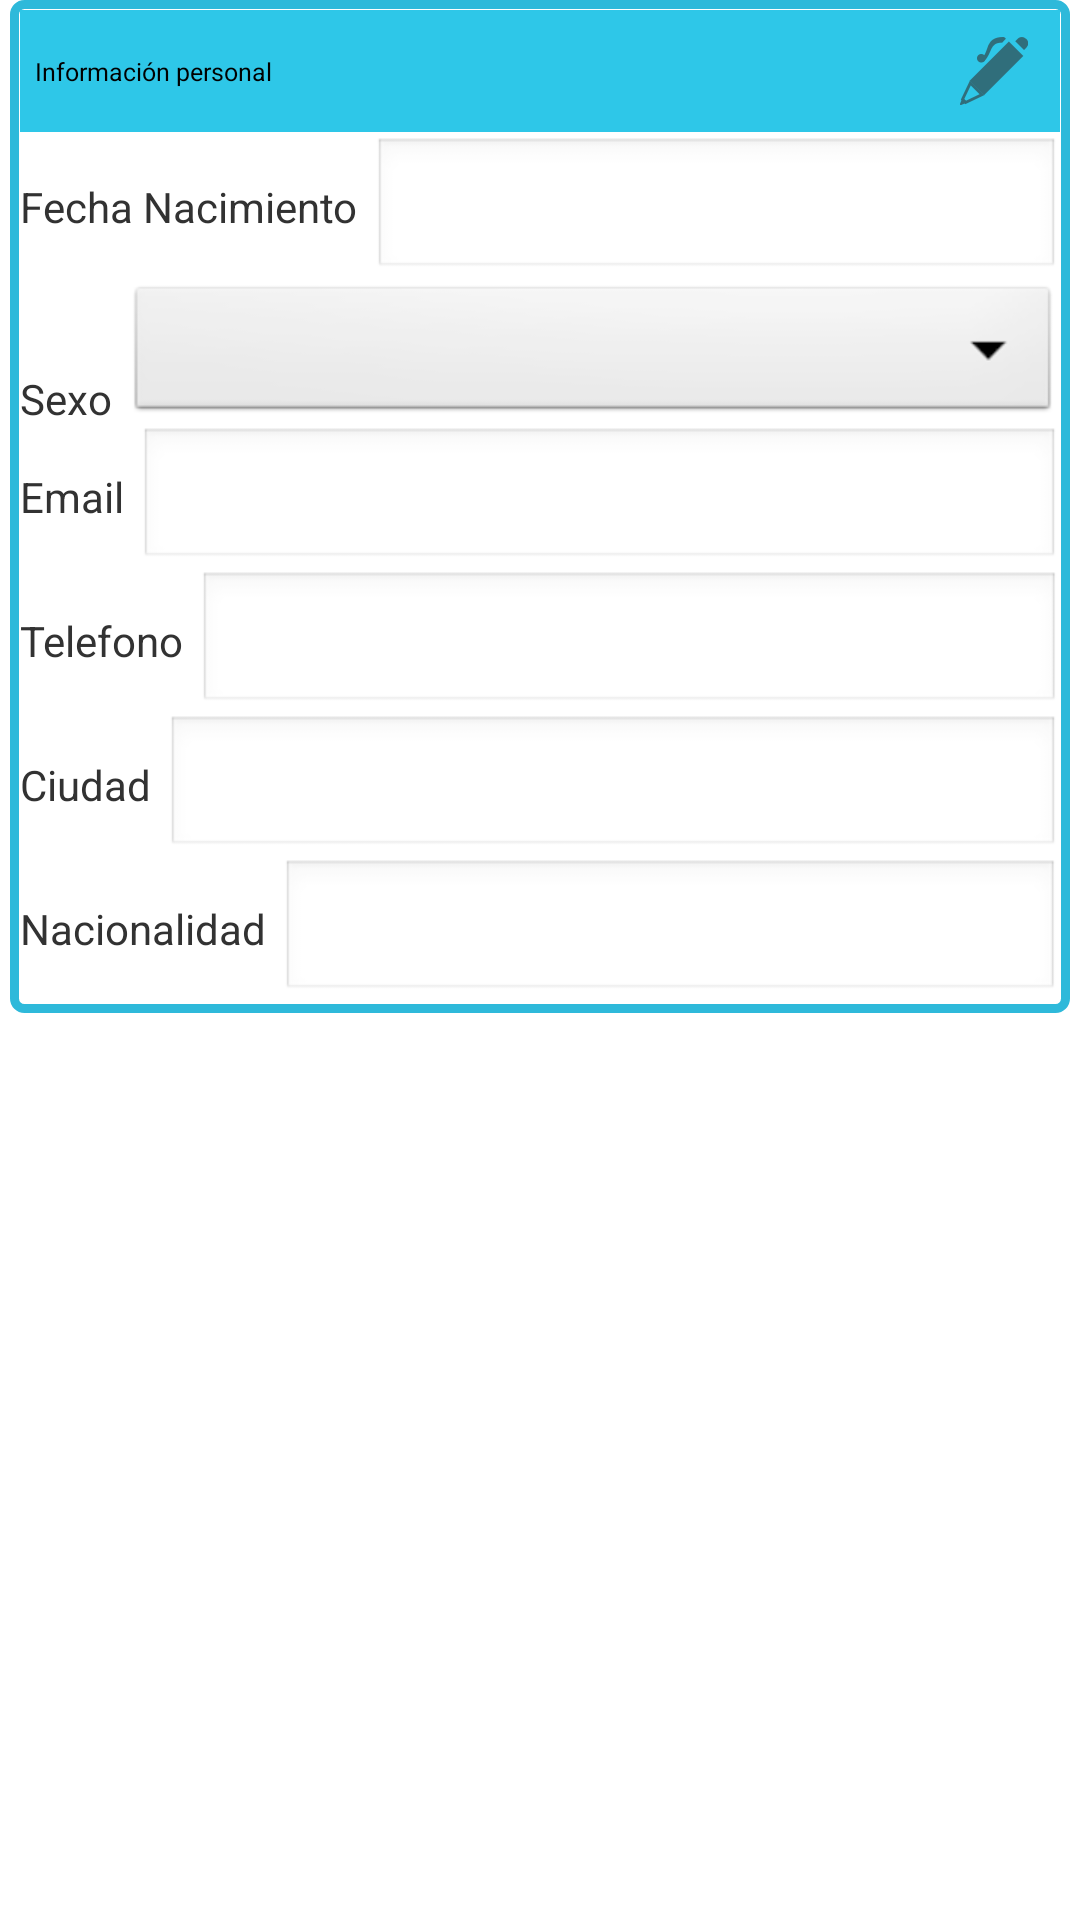

Icons on this 1080px x 1920px Android screen, each with the point to tap as [x,y]:
editar: [994,71]
